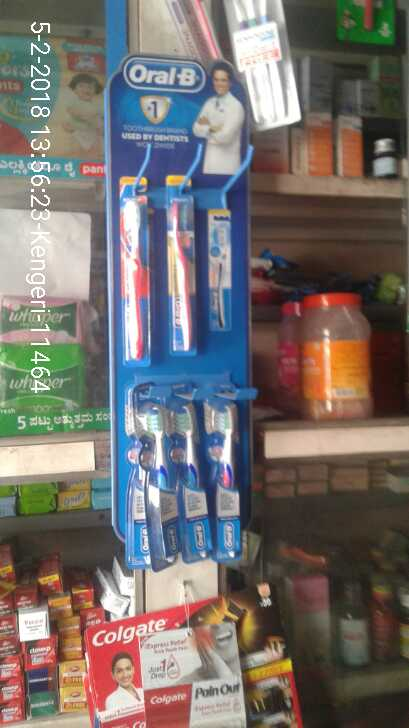pharmacy: (169, 387, 207, 561), (134, 401, 166, 572), (207, 403, 241, 561), (118, 183, 149, 352), (2, 348, 79, 412), (163, 193, 193, 354), (3, 292, 84, 347)
